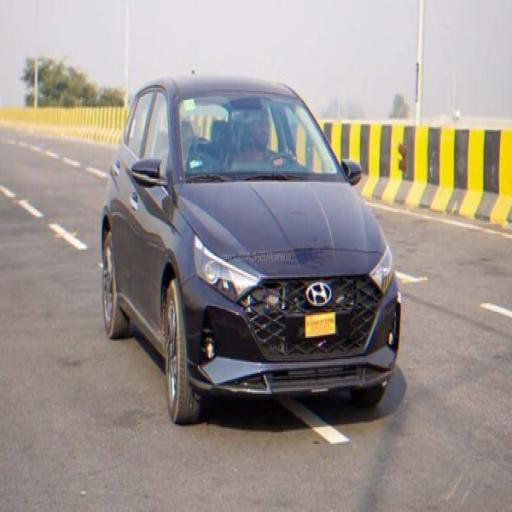License: (285, 310, 344, 344)
